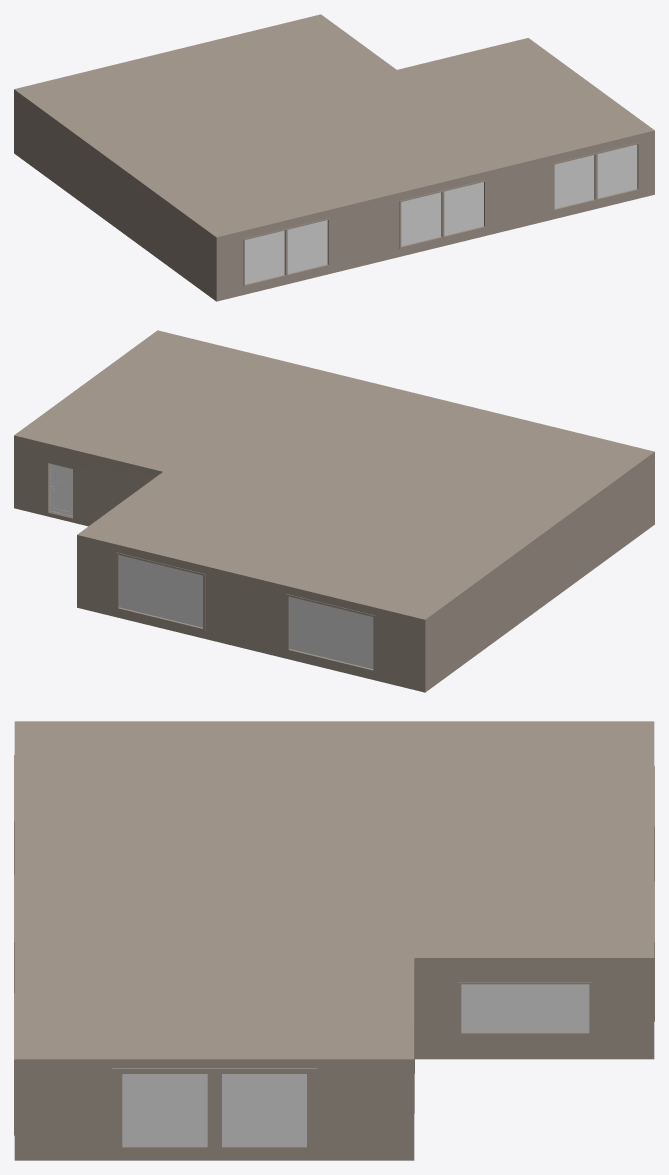
Rendered from Cafe_2.fbx.
The picture shows the model from 3 angles, top to bottom: view 1: azimuth 30°, elevation 25°; view 2: azimuth 150°, elevation 25°; view 3: azimuth 270°, elevation 25°; orthographic projection. The views are drawn at different scales.
Parts seen in each view (by area): view 1: Cafe_2_Body, Cafe_2_Window.003, Cafe_2_Window.004, Cafe_2_Window.005; view 2: Cafe_2_Body, Cafe_2_Window.001, Cafe_2_Window.002, Cafe_2_Door; view 3: Cafe_2_Body, Cafe_2_Window.006, Cafe_2_Window.
Boxes of the visible parts, x1=… form: Cafe_2_Body: x1=14, y1=14, x2=654, y2=301; Cafe_2_Window.003: x1=554, y1=144, x2=637, y2=208; Cafe_2_Window.004: x1=245, y1=220, x2=327, y2=284; Cafe_2_Window.005: x1=401, y1=182, x2=483, y2=246; Cafe_2_Body: x1=14, y1=330, x2=654, y2=692; Cafe_2_Window.001: x1=290, y1=597, x2=373, y2=668; Cafe_2_Window.002: x1=119, y1=555, x2=202, y2=627; Cafe_2_Door: x1=49, y1=463, x2=72, y2=517; Cafe_2_Body: x1=14, y1=721, x2=654, y2=1160; Cafe_2_Window.006: x1=122, y1=1074, x2=306, y2=1147; Cafe_2_Window: x1=461, y1=984, x2=589, y2=1031.
Size of the model in its own units: 2004 by 280 by 1603.
